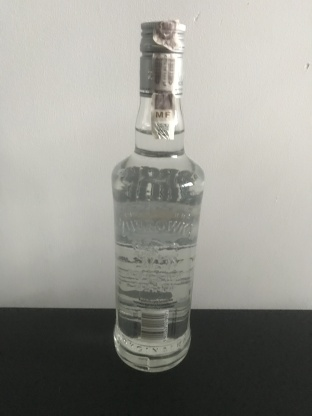nakretka: (138, 17, 187, 97)
